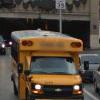Bus: (8, 25, 86, 99)
